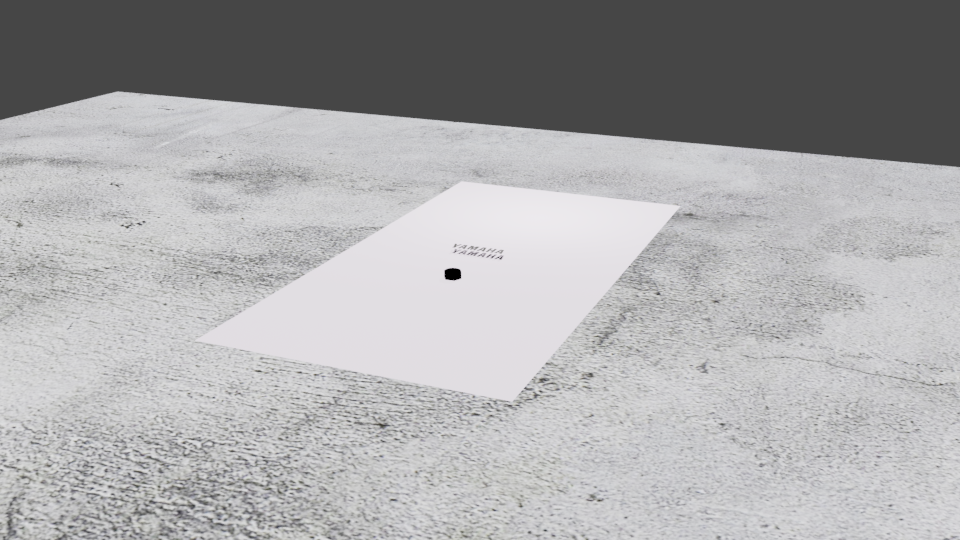yamaha_letters: (451, 242, 504, 254)
